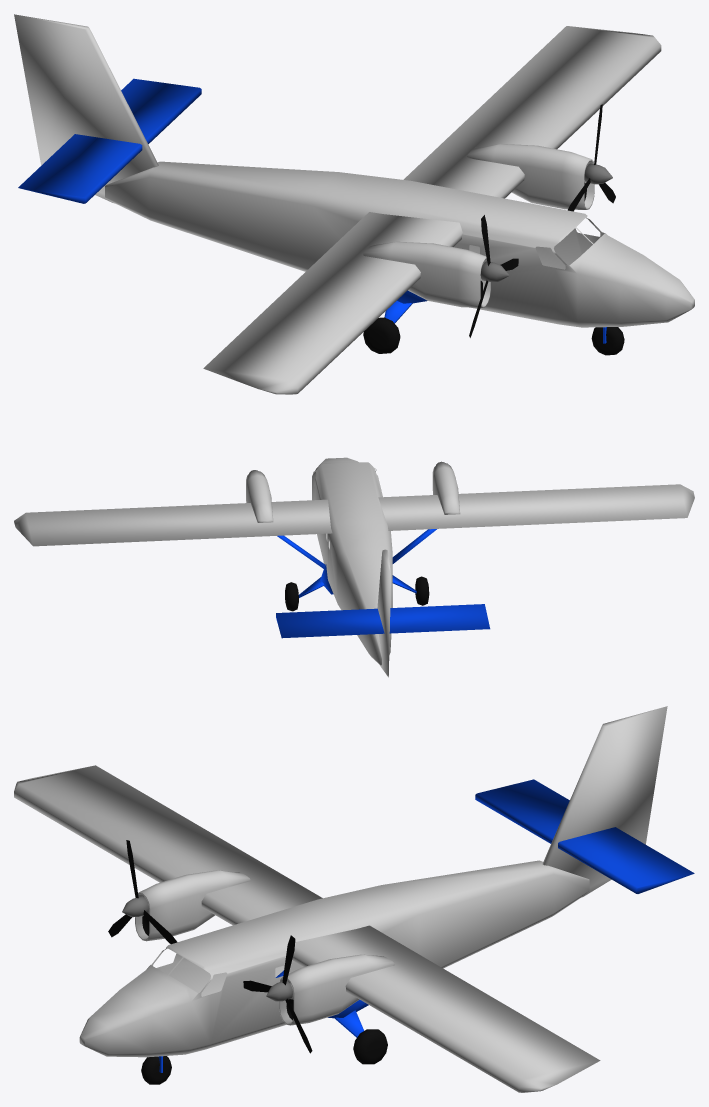
The picture shows the model from 3 angles, top to bottom: view 1: azimuth 30°, elevation 25°; view 2: azimuth 150°, elevation 25°; view 3: azimuth 270°, elevation 25°; orthographic projection. The views are drawn at different scales.
Visible parts, largest first — view 1: fus.001; view 2: fus.001; view 3: fus.001.
Boxes of the visible parts, x1,y1,x2,y2 form: fus.001: (14,14,694,394); fus.001: (14,457,694,677); fus.001: (14,706,694,1092).
Size of the model in its own units: 17.75 by 5.71 by 15.85.
